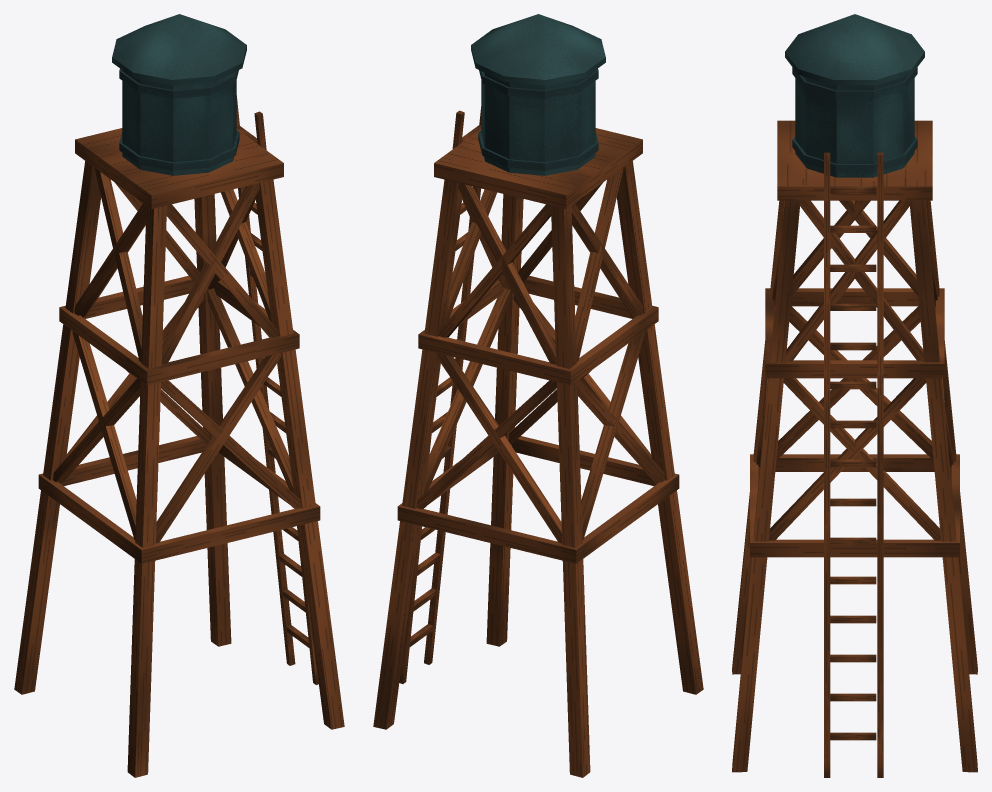
Rendered from TORRE ÁGUA.fbx.
3 renders of one model, left to right at view 1: azimuth 30°, elevation 25°; view 2: azimuth 150°, elevation 25°; view 3: azimuth 270°, elevation 25°, orthographic.
Parts seen in each view (by area): view 1: torre, água, escada; view 2: torre, água, escada; view 3: torre, água, escada.
Boxes of the visible parts, x1,y1,x2,y2 form: torre: (14,128,344,777); água: (112,14,246,175); escada: (236,95,318,684); torre: (373,128,703,777); água: (471,14,605,175); escada: (399,107,481,683); torre: (732,120,977,772); água: (785,14,924,177); escada: (824,152,883,777).
Bounding box in the file's own units: 366 × 1048 × 330.
3 materials, 3 textured.
